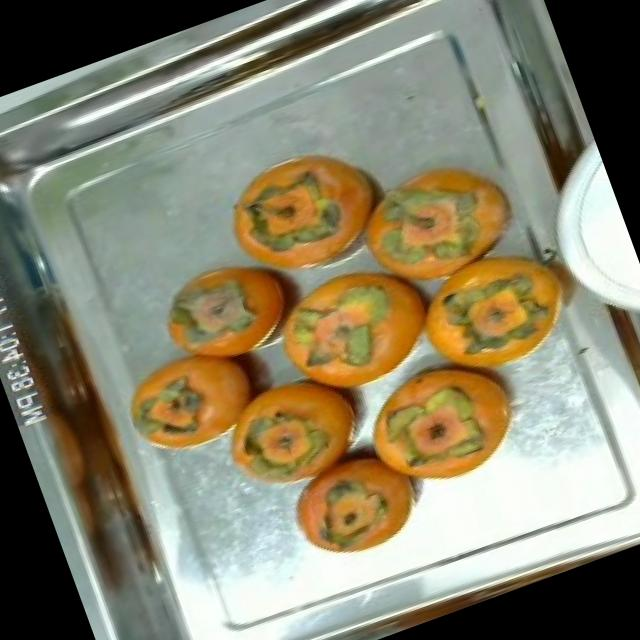Fruit: (246, 236, 466, 418), (330, 132, 548, 314), (342, 334, 546, 516), (207, 125, 407, 297), (266, 420, 446, 580), (107, 340, 250, 472), (210, 388, 356, 511)
